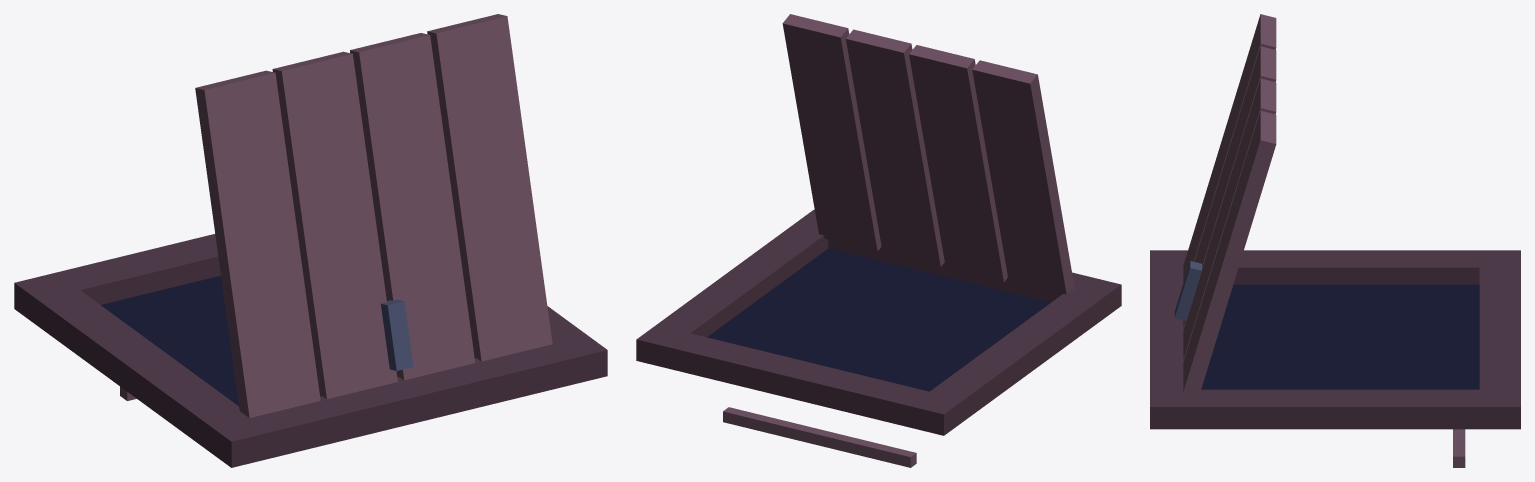
The model's file is Mine_Trapdoor_Open.obj.
The picture shows the model from 3 angles, left to right: view 1: azimuth 30°, elevation 25°; view 2: azimuth 150°, elevation 25°; view 3: azimuth 270°, elevation 25°; orthographic projection. The views are drawn at different scales.
Visible parts, largest first — view 1: Mine_Trapdoor_Open; view 2: Mine_Trapdoor_Open; view 3: Mine_Trapdoor_Open.
Boxes of the visible parts, x1,y1,x2,y2 form: Mine_Trapdoor_Open: (14, 14, 607, 467); Mine_Trapdoor_Open: (636, 14, 1121, 467); Mine_Trapdoor_Open: (1150, 14, 1520, 467).
Size of the model in its own units: 1.8 by 1.84 by 1.8.
